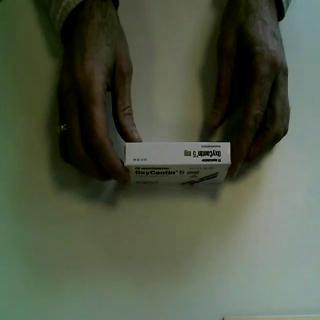oxycontin5mg: (124, 141, 235, 189)
